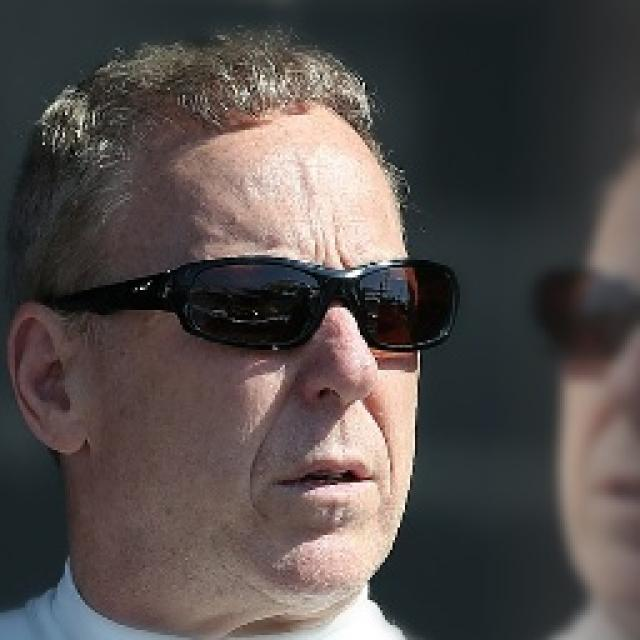glasses: (57, 254, 484, 371)
